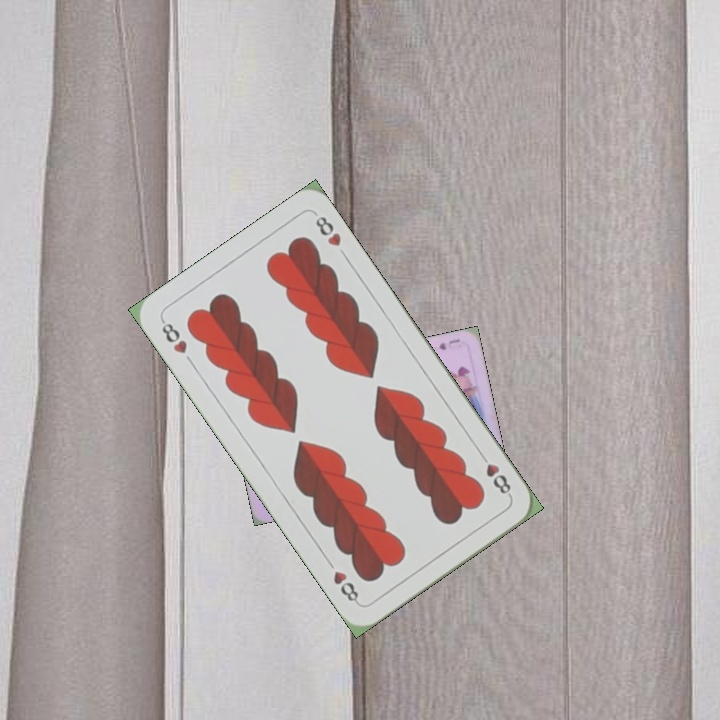H8: (475, 448, 514, 500), (157, 316, 190, 357)
SU: (433, 335, 463, 353)
